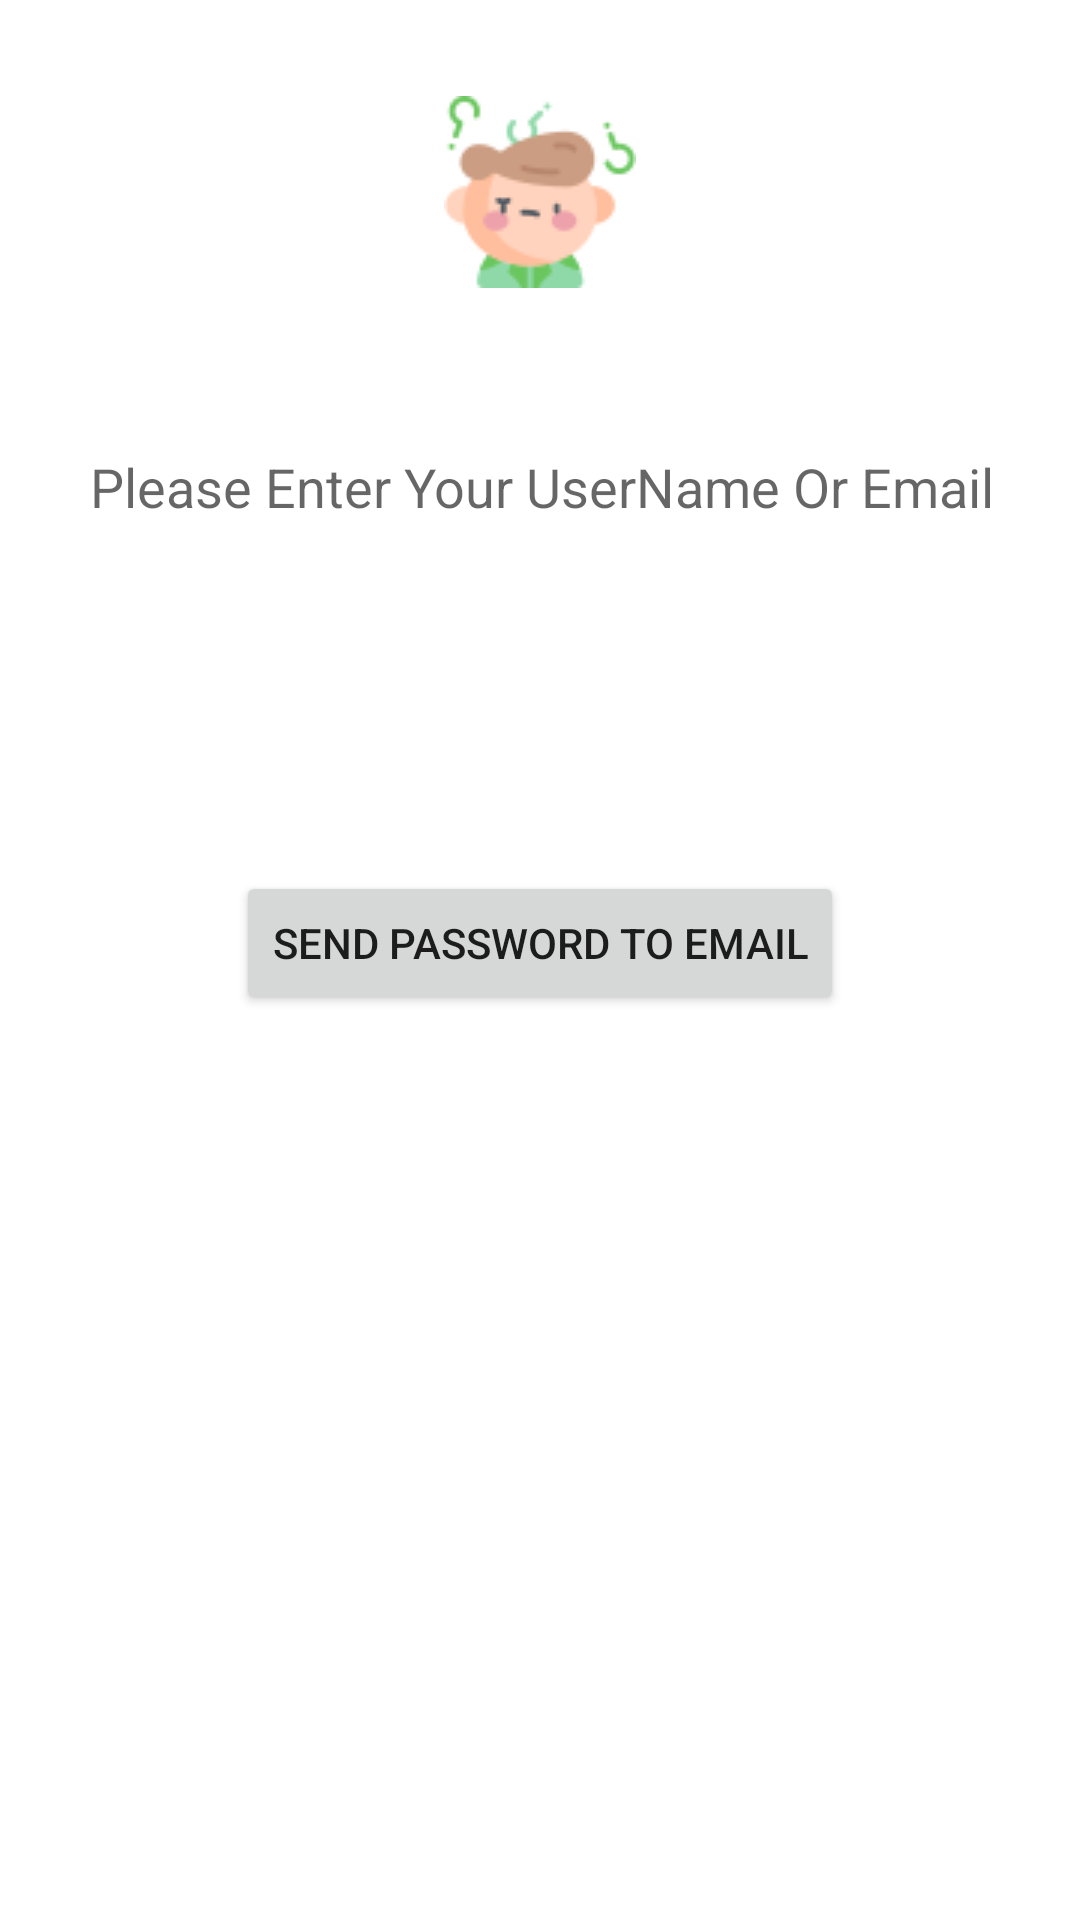

Named icons in this screenshot (1080 × 1920) and their centers, point (x, y):
forgot: point (540, 192)
